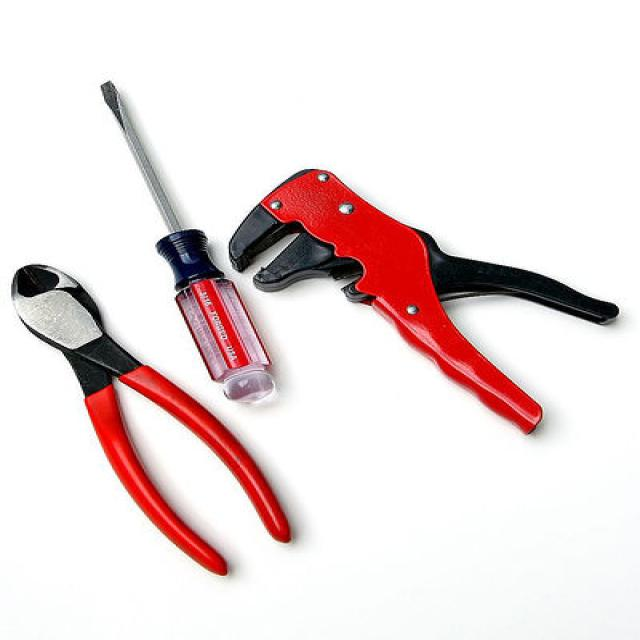screw driver: (84, 66, 304, 418)
